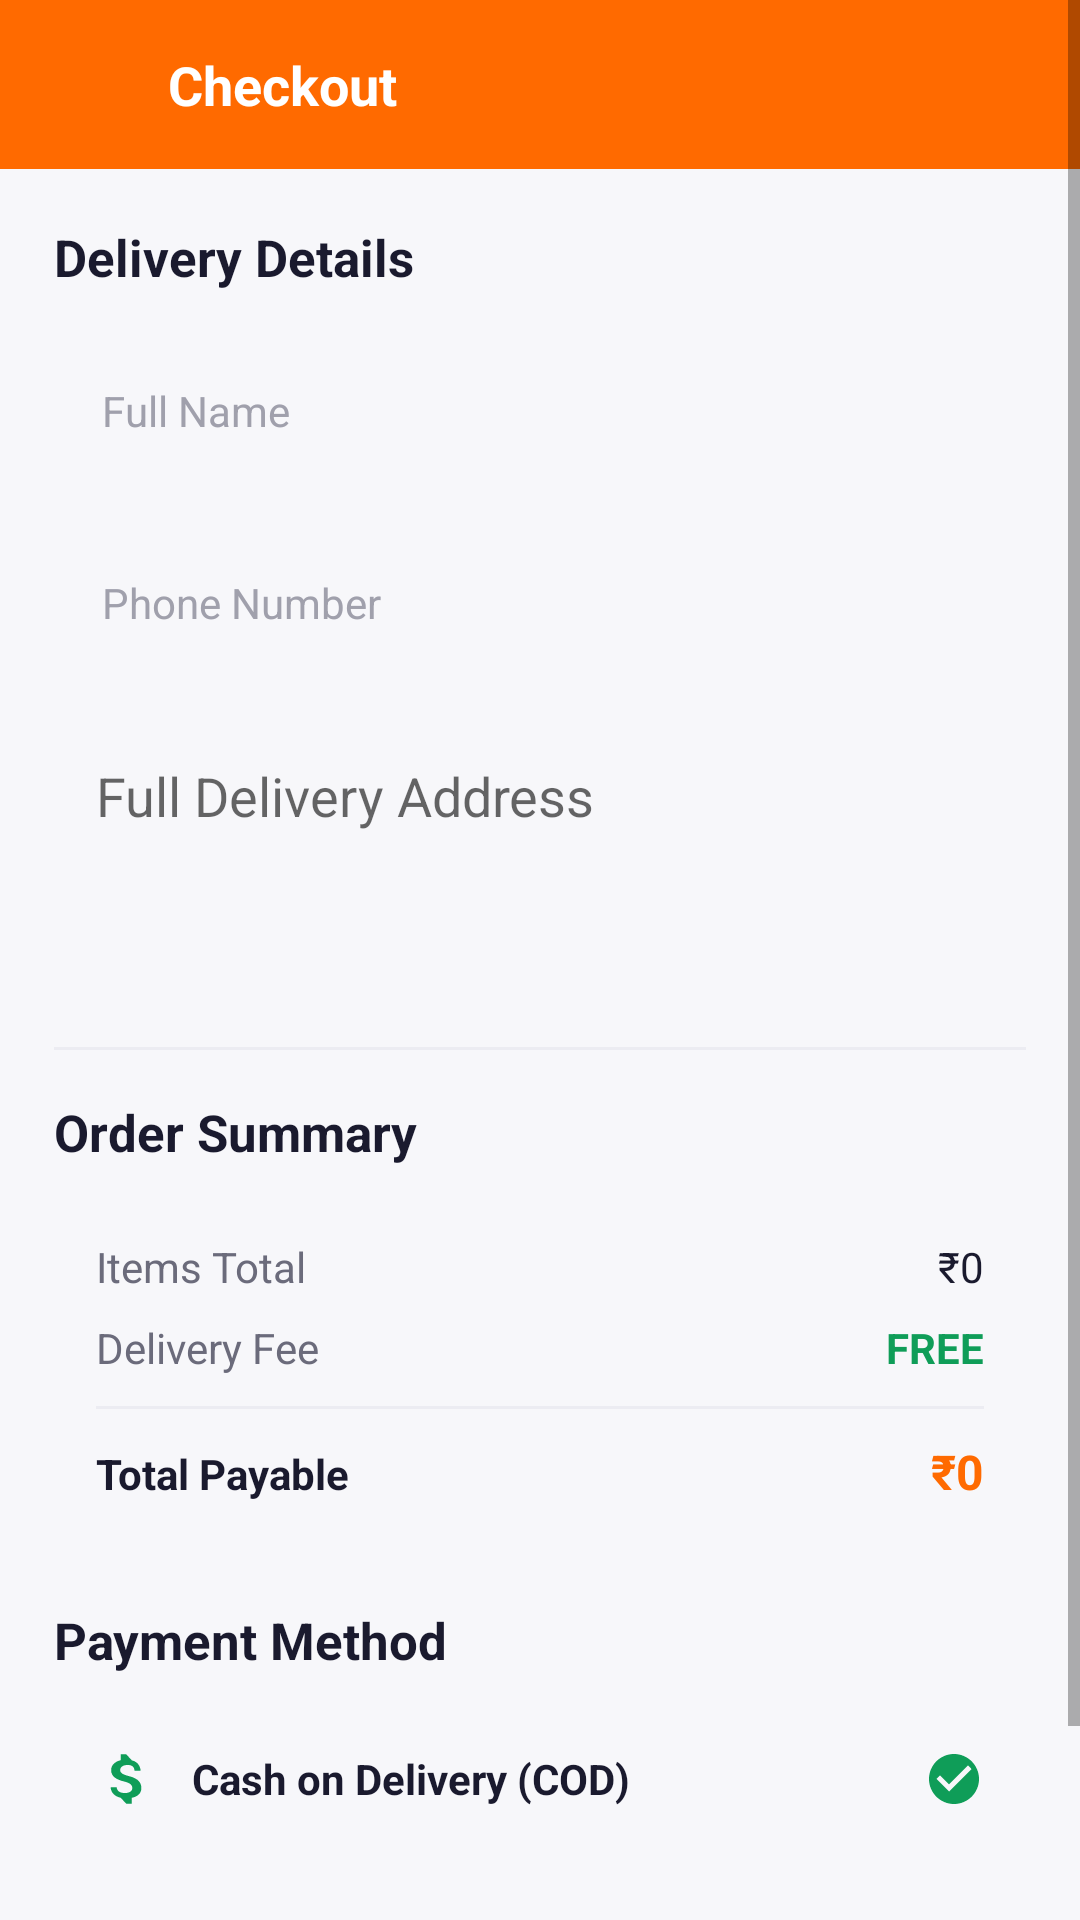

Icons on this 1080*1920 Android screen, each with its box as (x1, y1, x2, y2):
check circle: (929, 1754, 979, 1804)
money: (110, 1754, 142, 1804)
